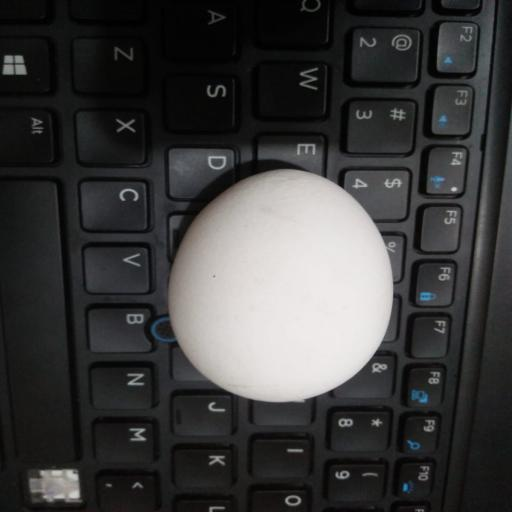telur: (169, 169, 393, 402)
